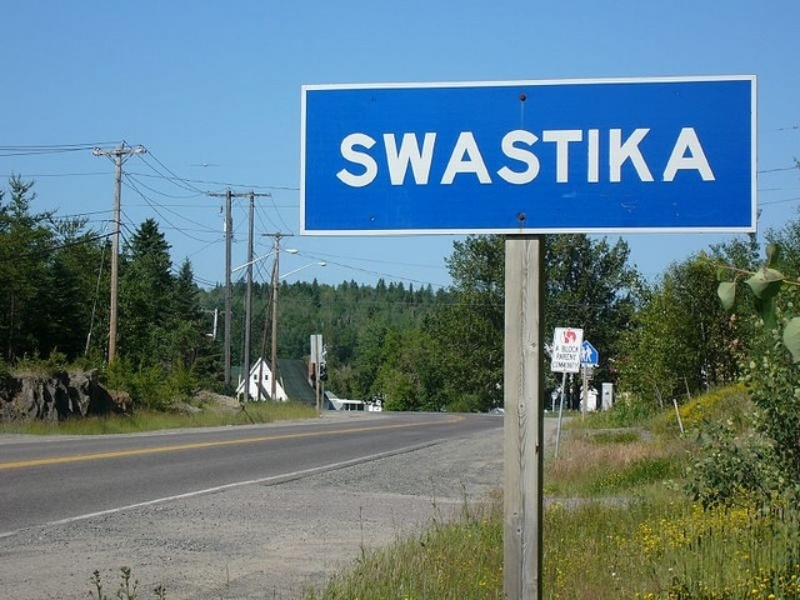text: (337, 126, 352, 188), (353, 126, 368, 188), (369, 126, 384, 188), (385, 126, 400, 188), (401, 126, 416, 188), (417, 126, 432, 188), (433, 126, 448, 188), (449, 126, 464, 188), (465, 126, 480, 188), (481, 126, 496, 188), (497, 126, 512, 188), (513, 126, 528, 188), (529, 126, 544, 188), (545, 126, 560, 188), (561, 126, 576, 188), (577, 126, 592, 188), (593, 126, 608, 188), (609, 126, 624, 188), (625, 126, 640, 188), (641, 126, 656, 188), (657, 126, 672, 188), (673, 126, 688, 188), (689, 126, 704, 188), (705, 126, 716, 188), (561, 344, 576, 354), (561, 352, 576, 362), (561, 362, 576, 371), (552, 362, 560, 371), (554, 344, 560, 354), (577, 344, 581, 354), (556, 352, 560, 362), (577, 362, 581, 371), (577, 352, 578, 362)
